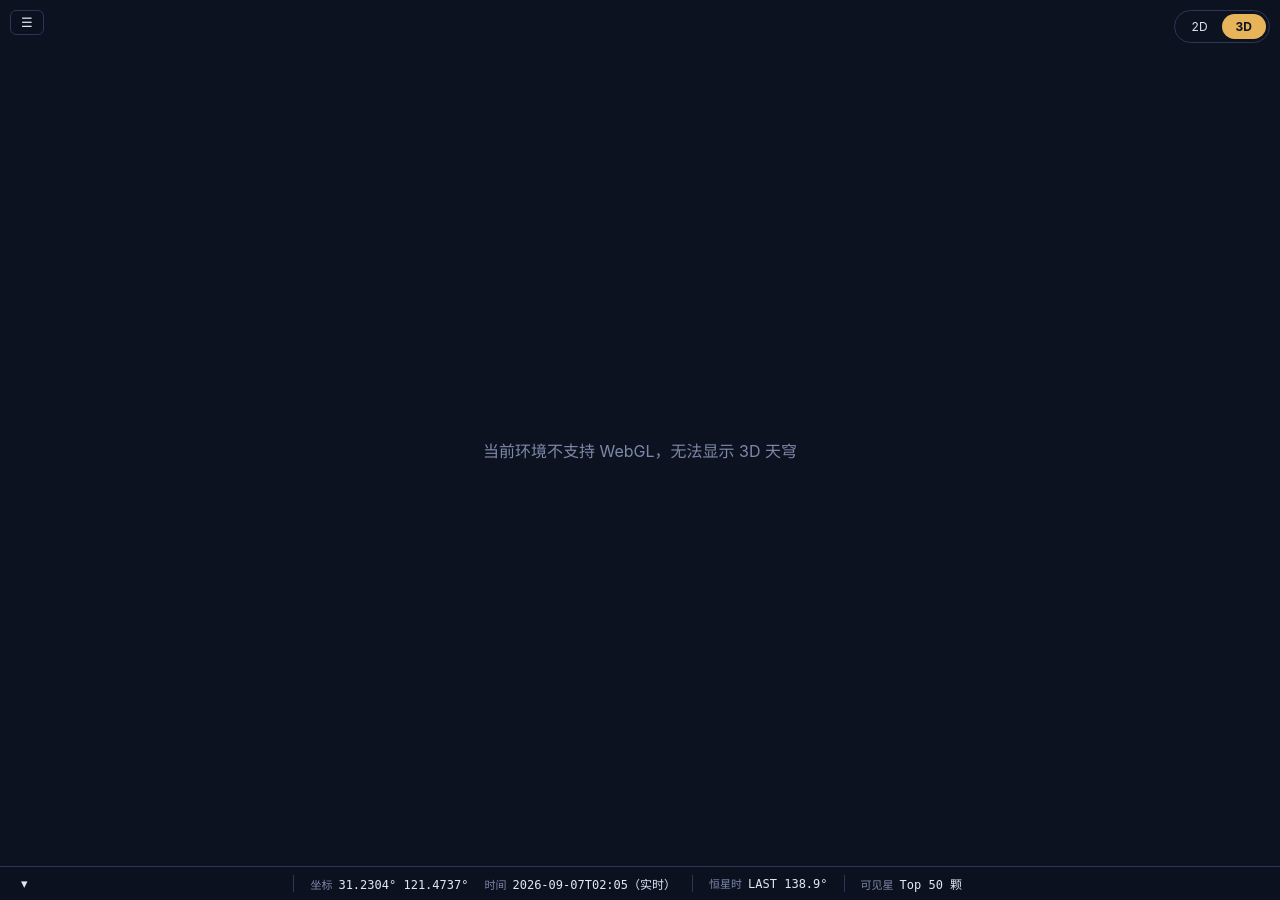
Test: App › 菜单按钮直接打开设置弹框，应用后摘要更新
The width and height of the screenshot is (1280, 900).
Click the button named "菜单" at [27, 22], box left=10, top=10, right=44, bottom=35
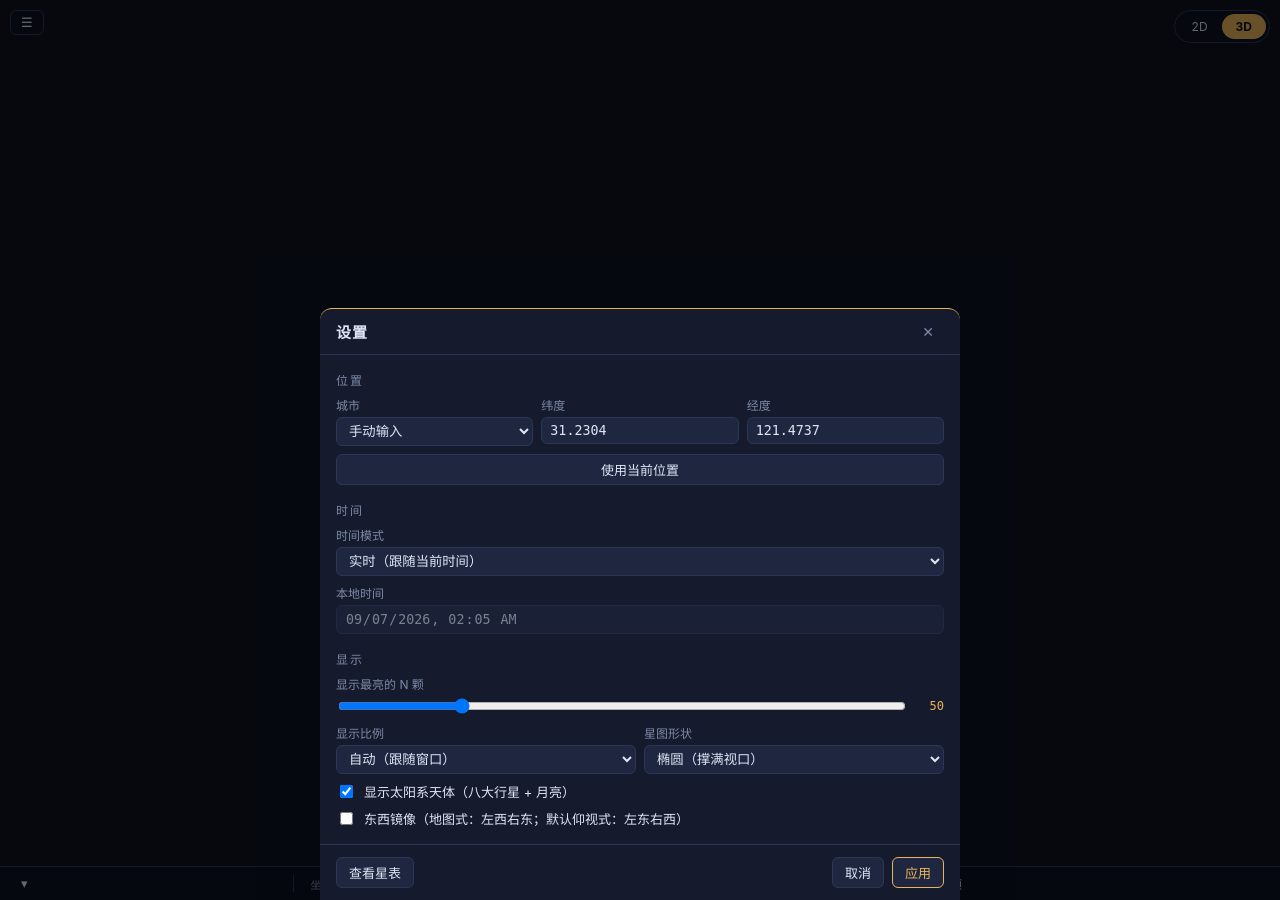
Replace the text in the field labelled "纬度" with "-33.87" at [640, 430], box left=541, top=417, right=739, bottom=444
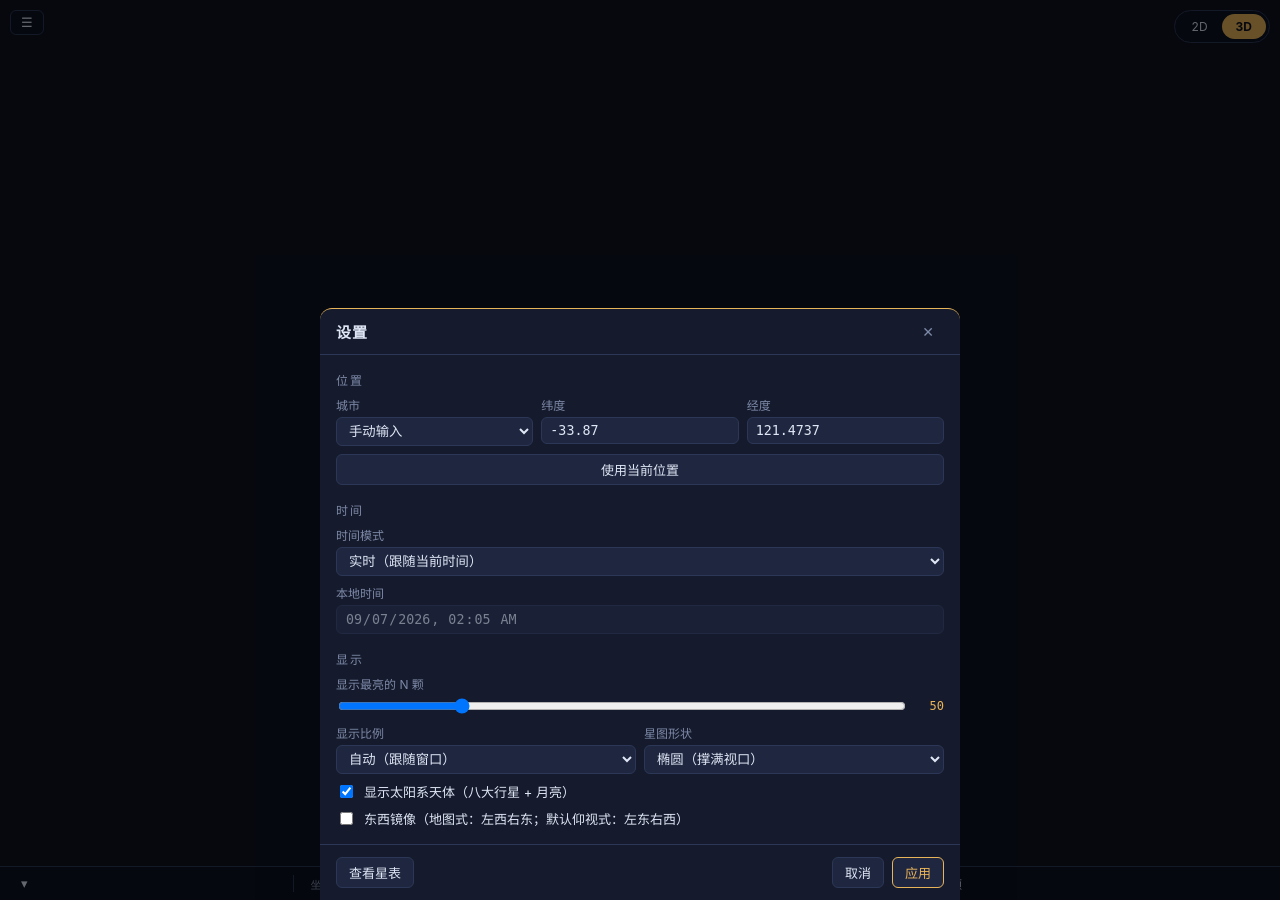
Click the button "应用" at [918, 872], box left=892, top=857, right=944, bottom=888
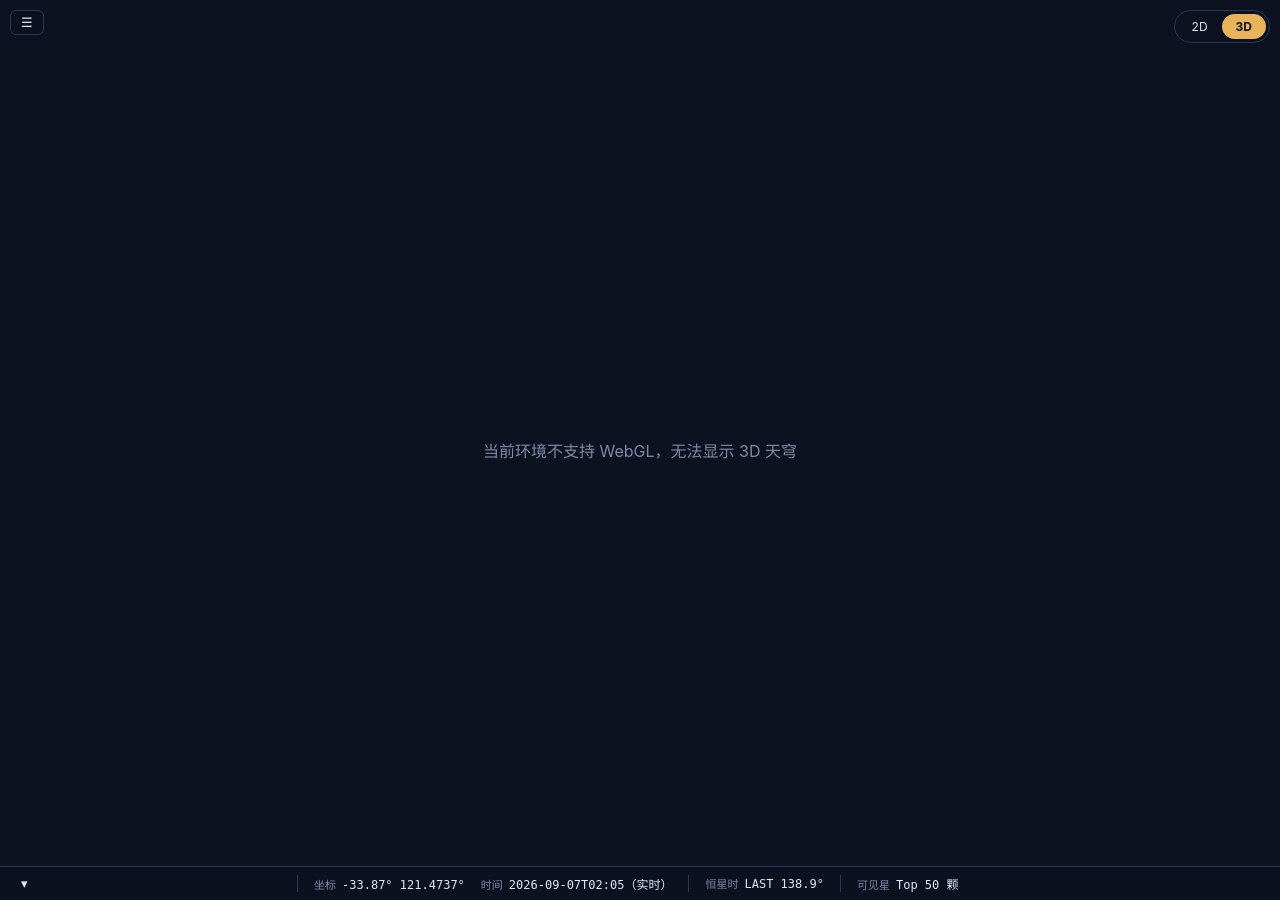
Expected: the element with test id "summary" shows "-33.87", left=342, top=878, right=465, bottom=892
